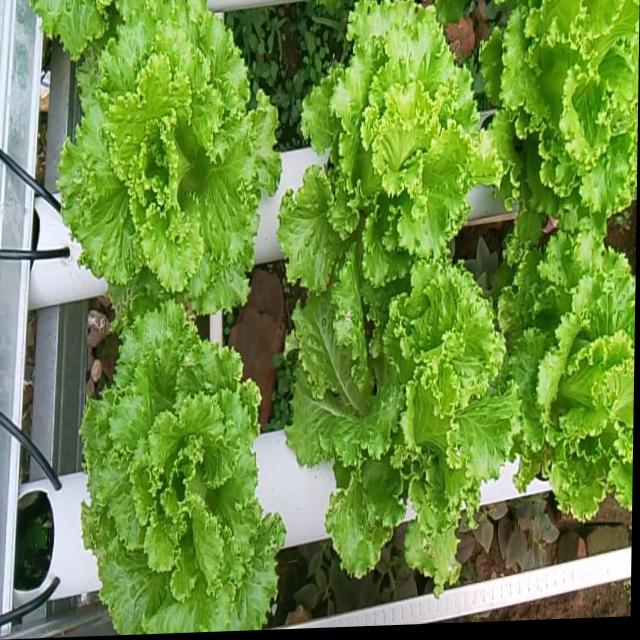Mature: (34, 0, 281, 326), (285, 255, 519, 587), (277, 0, 500, 326), (80, 301, 285, 635), (503, 235, 636, 519), (482, 0, 640, 235)
